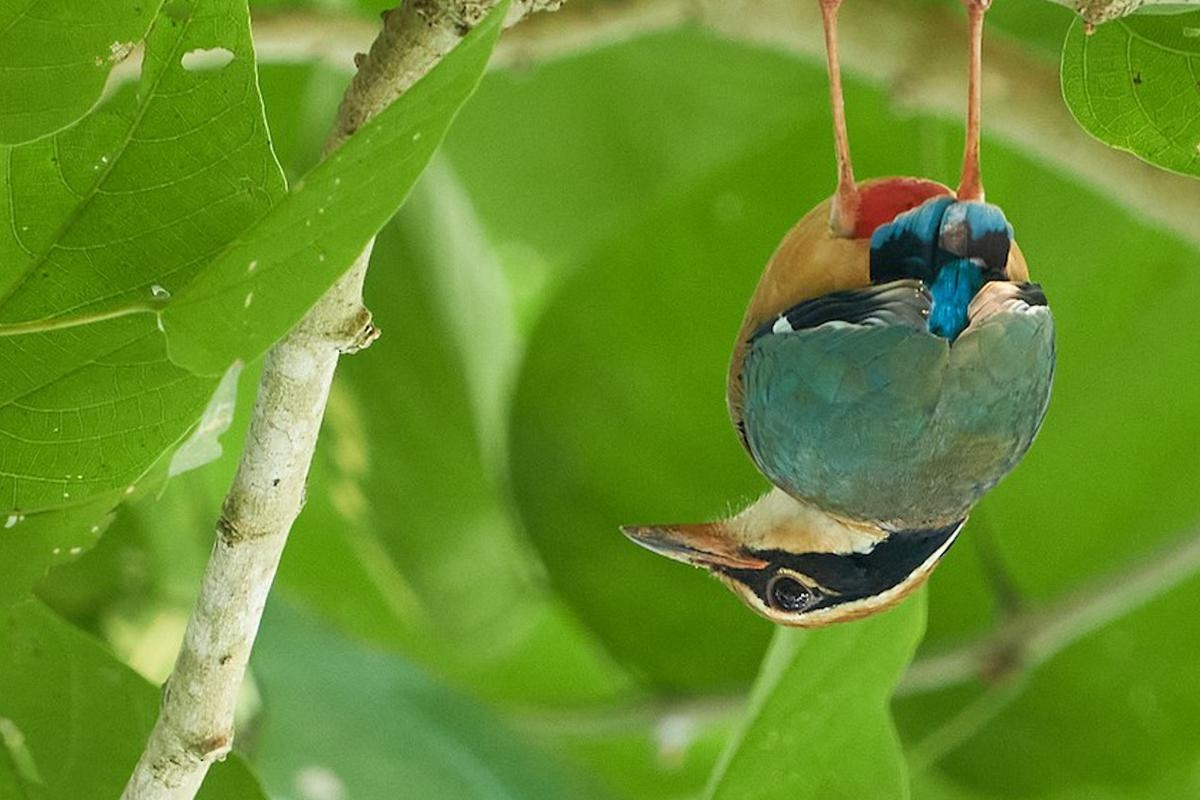pitta: (659, 117, 1067, 667)
